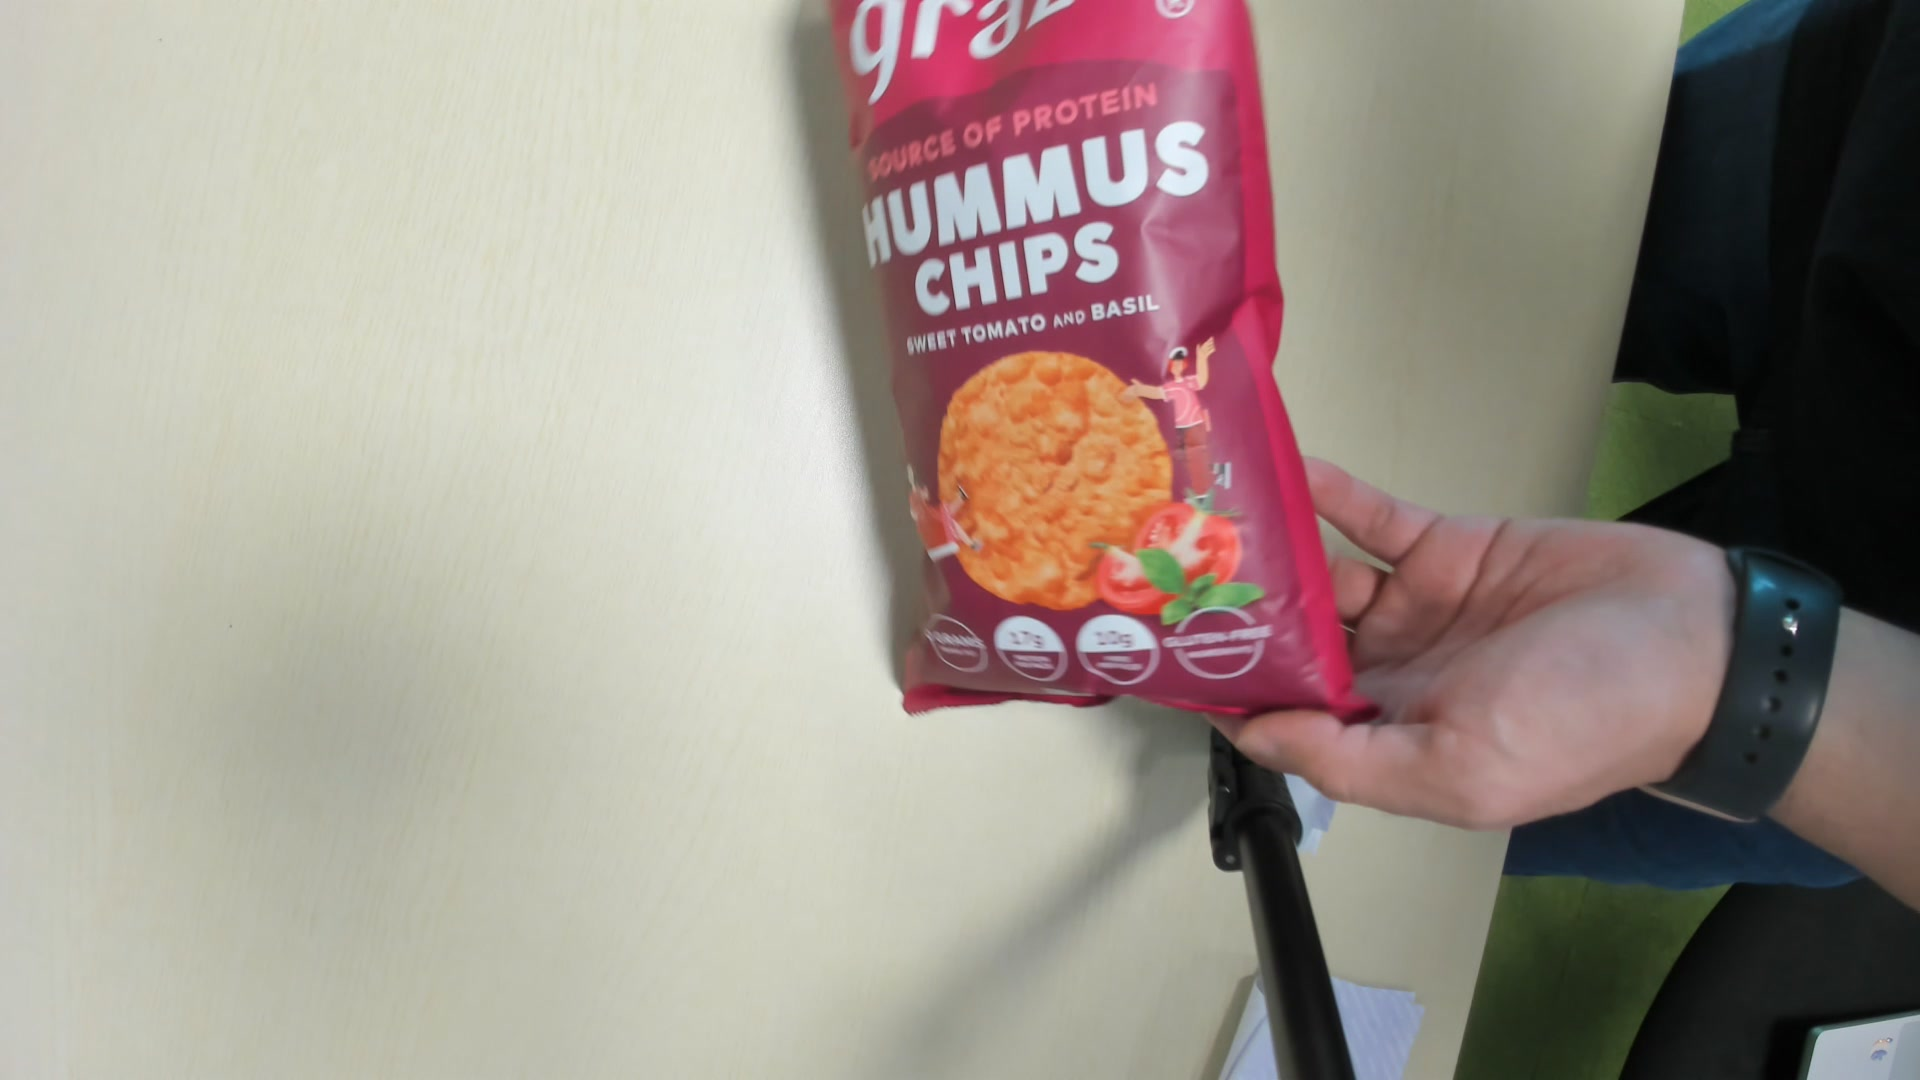PotatoChipsKeropok_100-199g_NonHalal_NonHealthy: (824, 1, 1364, 720)
